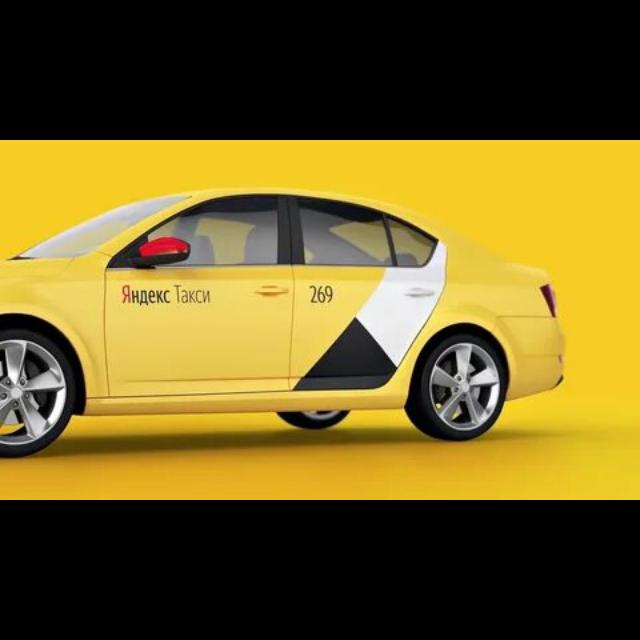taxi: (1, 186, 567, 458)
